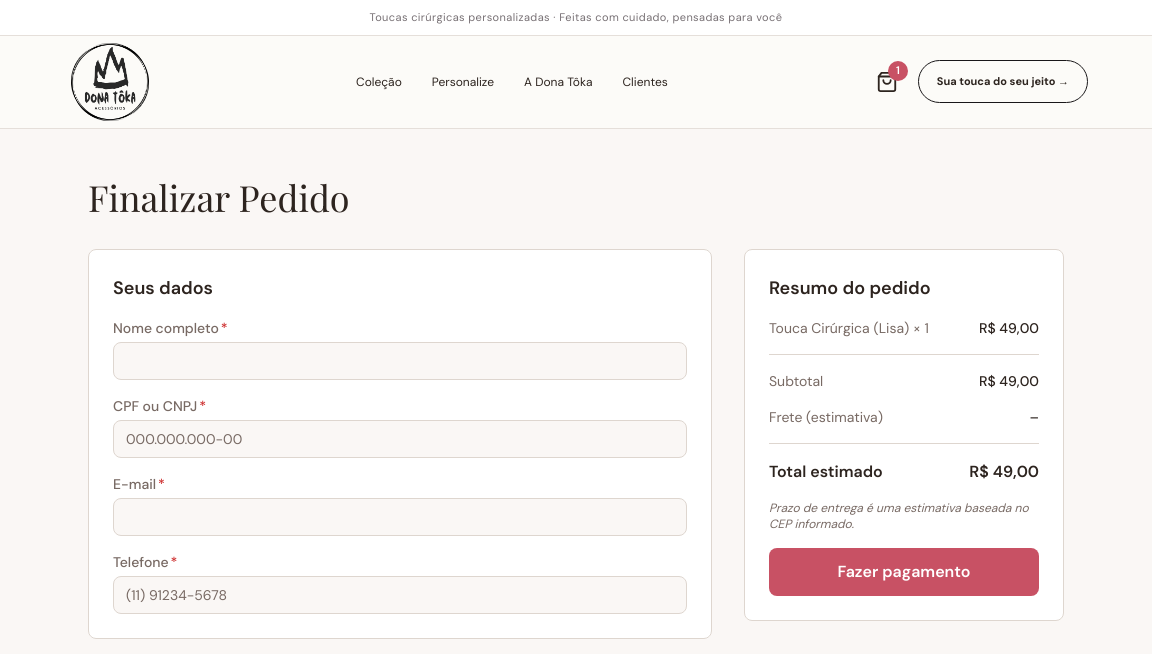
Test case: checkout — freight quote failures › shows a backend error when freight calculation fails for a valid CEP
Check: the heading "Finalizar Pedido" is shown, box [88,172,350,220]
In the field labelled "Nome completo*": x=400, y=360 [113,342,687,380], type "Ana Lima"
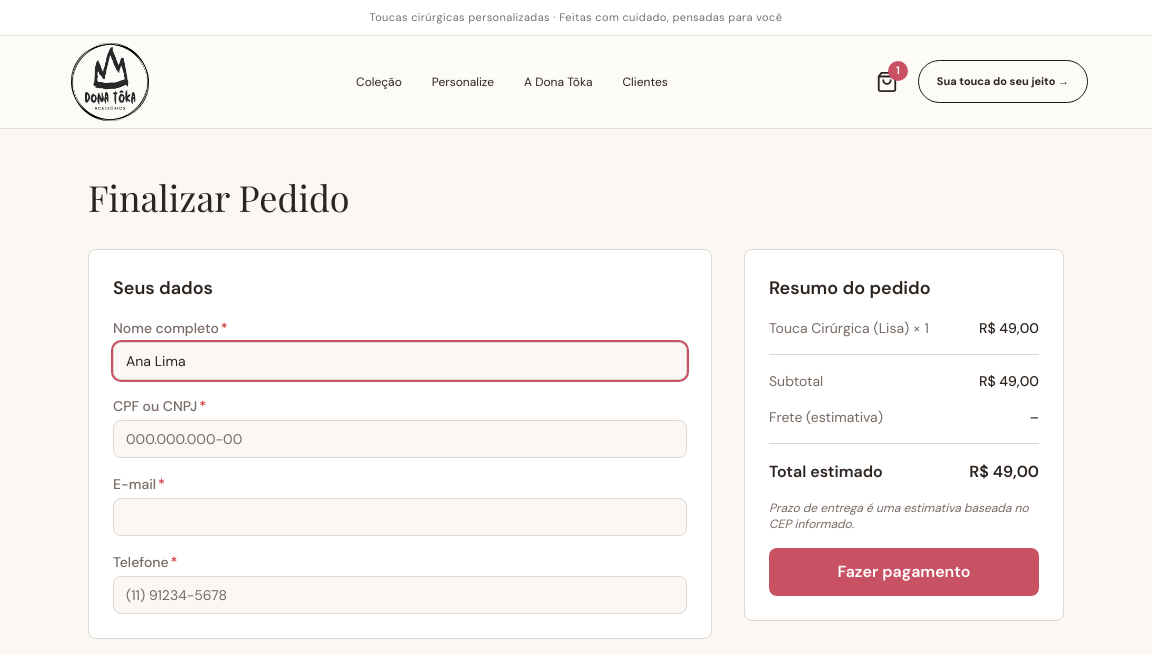
In the field labelled "CPF ou CNPJ*": x=400, y=438 [113,420,687,458], type "12345678909"
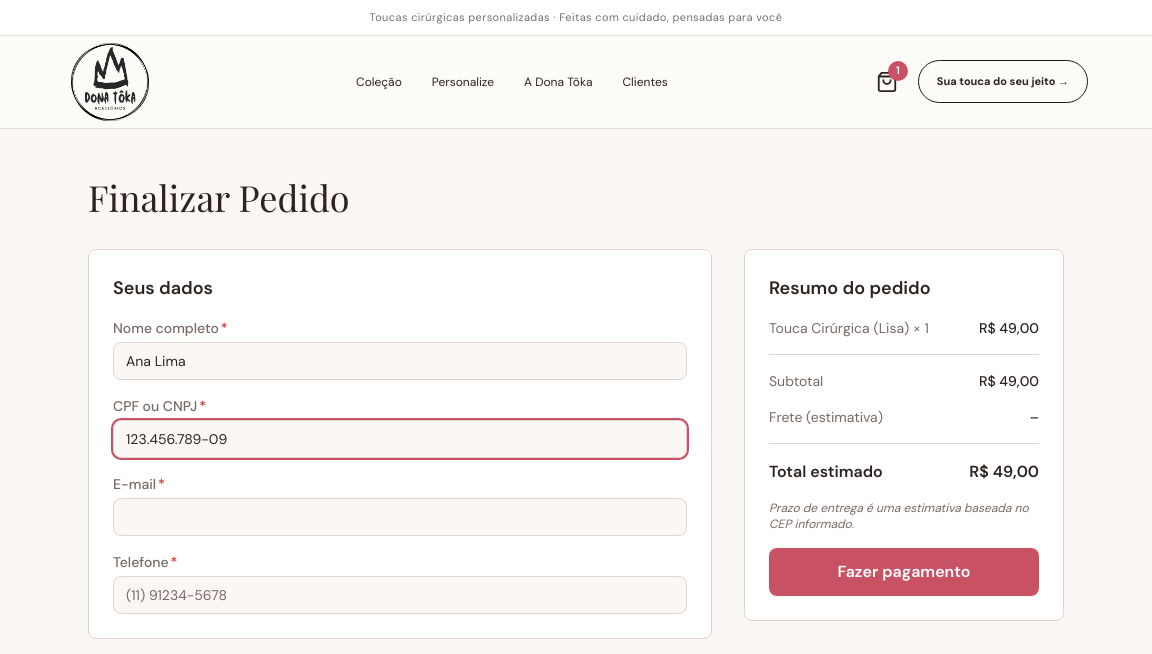
In the field labelled "E-mail*": x=400, y=516 [113,498,687,536], type "ana@example.com"
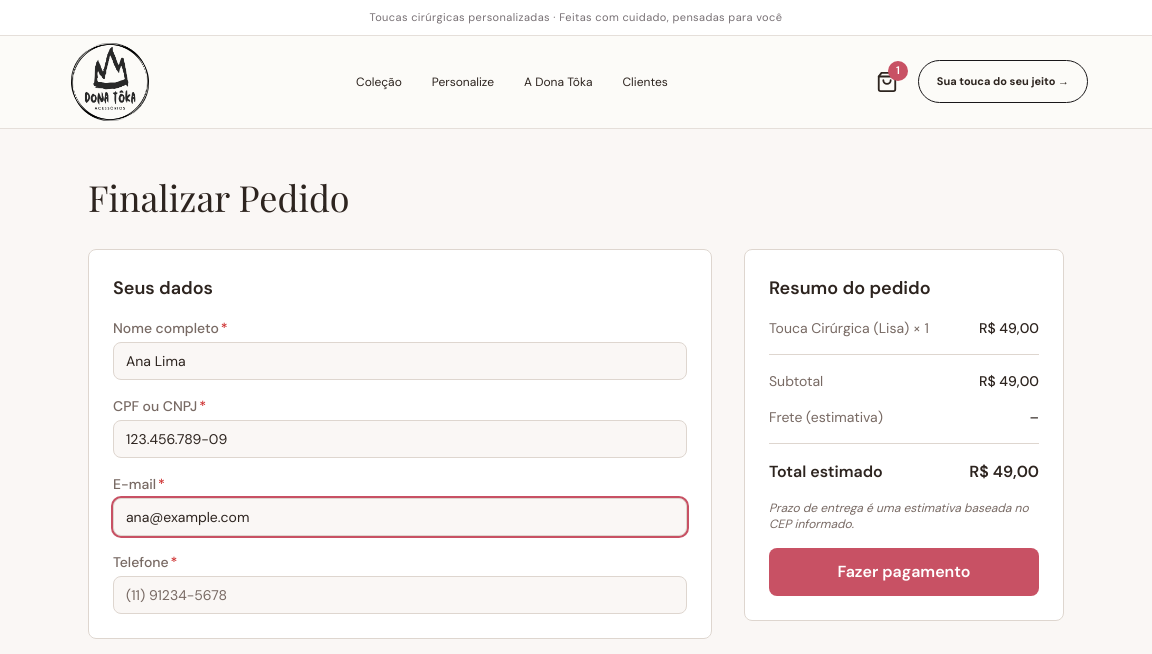
In the field labelled "Telefone*": x=400, y=594 [113,576,687,614], type "11912345678"
(page scrolled)
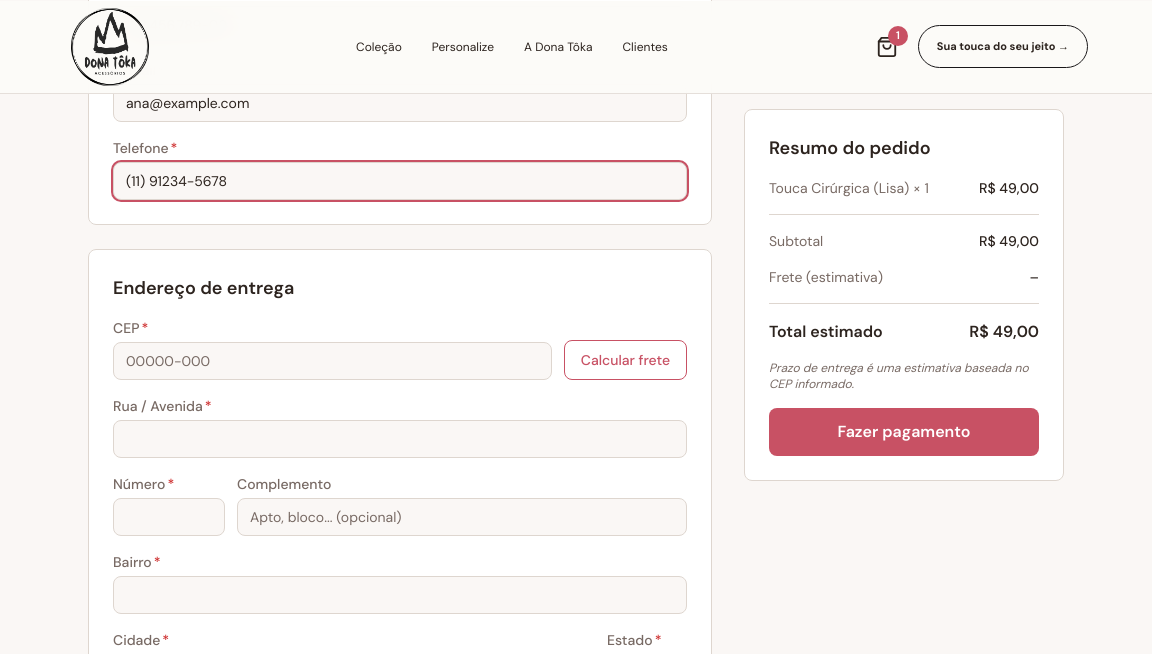
In the field labelled "CEP*": x=332, y=360 [113,342,552,380], type "01310100"
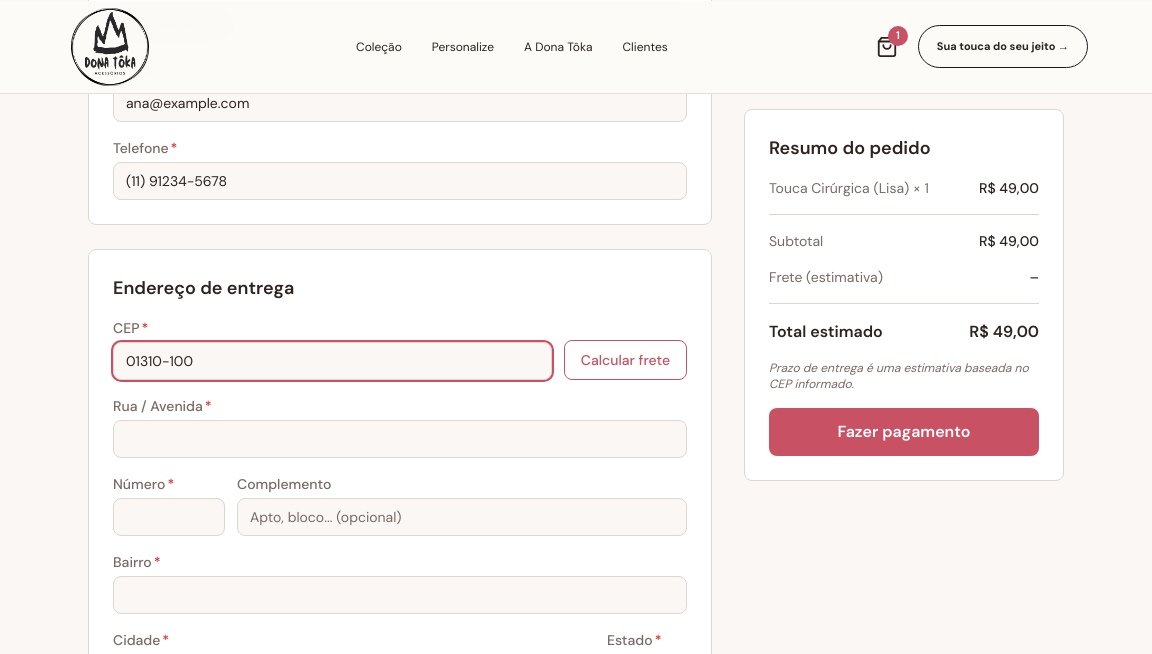
Click the button "Calcular frete": x=625, y=360 [564,340,687,380]
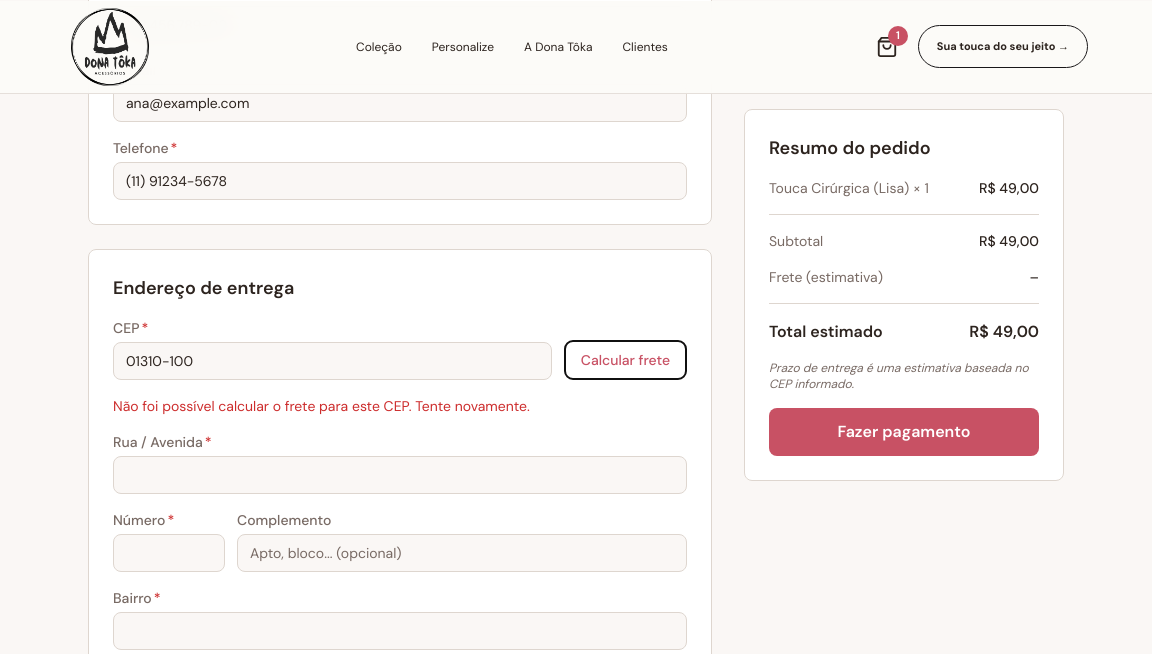
Check: the message shows "Não foi possível calcular o frete", box [113,396,530,414]
